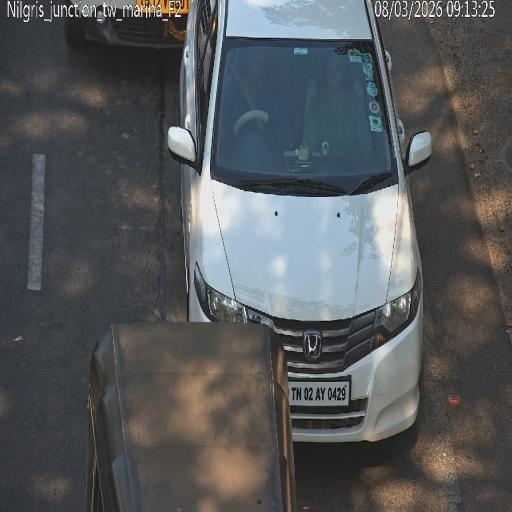person_with_seatbelt: (232, 54, 267, 138)
person_without_seatbelt: (316, 92, 364, 158)
